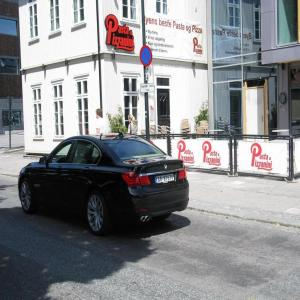Vehicle-registration-plate: (156, 175, 176, 186)
